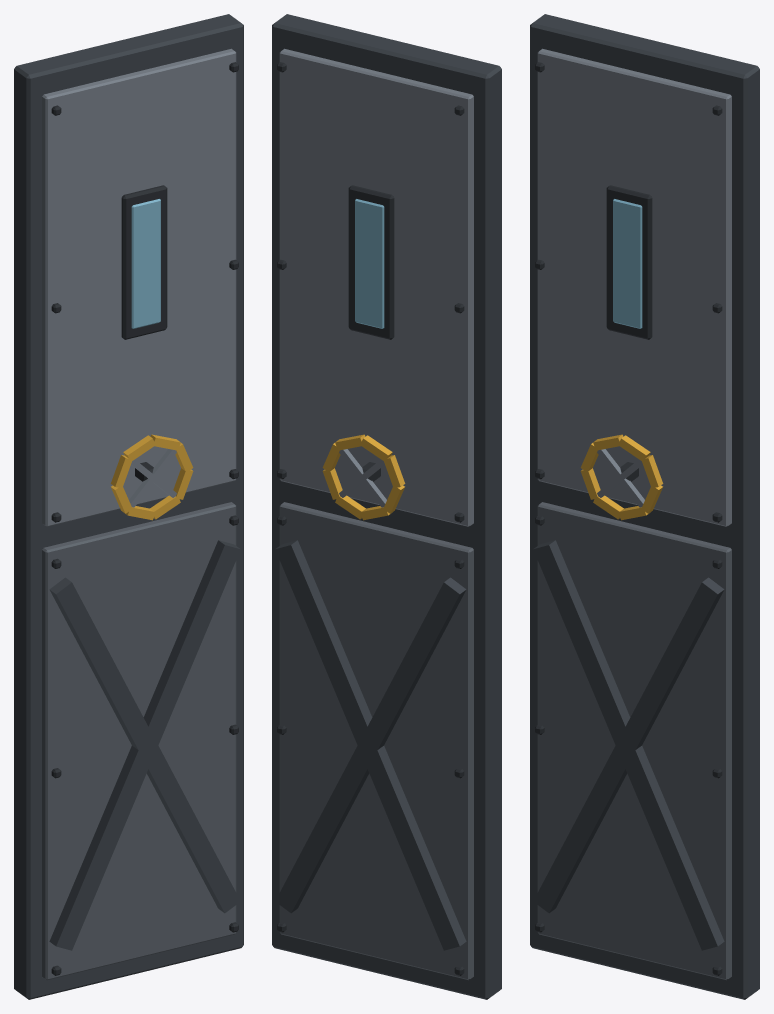
The model's file is porte_blinde_battant.glb.
3 renders of one model, left to right at view 1: azimuth 30°, elevation 25°; view 2: azimuth 150°, elevation 25°; view 3: azimuth 330°, elevation 25°, orthographic.
Visible parts, largest first — view 1: porte_blinde_battant_blinde_clair.002, porte_blinde_battant_blinde.002, porte_blinde_battant_blinde_sombre.002, porte_blinde_battant_blinde_joint.002, porte_blinde_battant_blinde_vitre.002, porte_blinde_battant_blinde_jaune.002; view 2: porte_blinde_battant_blinde_clair.002, porte_blinde_battant_blinde.002, porte_blinde_battant_blinde_sombre.002, porte_blinde_battant_blinde_joint.002, porte_blinde_battant_blinde_vitre.002, porte_blinde_battant_blinde_jaune.002; view 3: porte_blinde_battant_blinde_clair.002, porte_blinde_battant_blinde.002, porte_blinde_battant_blinde_sombre.002, porte_blinde_battant_blinde_joint.002, porte_blinde_battant_blinde_vitre.002, porte_blinde_battant_blinde_jaune.002.
Part boxes in pixels (x1,y1,x2,y2): porte_blinde_battant_blinde_clair.002: (42, 48, 236, 526); porte_blinde_battant_blinde.002: (42, 502, 236, 980); porte_blinde_battant_blinde_sombre.002: (14, 14, 243, 999); porte_blinde_battant_blinde_joint.002: (51, 62, 238, 975); porte_blinde_battant_blinde_vitre.002: (131, 199, 160, 328); porte_blinde_battant_blinde_jaune.002: (110, 434, 193, 520); porte_blinde_battant_blinde_clair.002: (279, 48, 473, 526); porte_blinde_battant_blinde.002: (279, 502, 473, 980); porte_blinde_battant_blinde_sombre.002: (272, 14, 501, 999); porte_blinde_battant_blinde_joint.002: (277, 62, 464, 975); porte_blinde_battant_blinde_vitre.002: (355, 199, 384, 328); porte_blinde_battant_blinde_jaune.002: (322, 434, 405, 520); porte_blinde_battant_blinde_clair.002: (537, 48, 731, 526); porte_blinde_battant_blinde.002: (537, 502, 731, 980); porte_blinde_battant_blinde_sombre.002: (530, 14, 759, 999); porte_blinde_battant_blinde_joint.002: (535, 62, 722, 975); porte_blinde_battant_blinde_vitre.002: (613, 199, 642, 328); porte_blinde_battant_blinde_jaune.002: (580, 434, 663, 520).
Size of the model in its own units: 0.49 by 1.99 by 0.1975.
